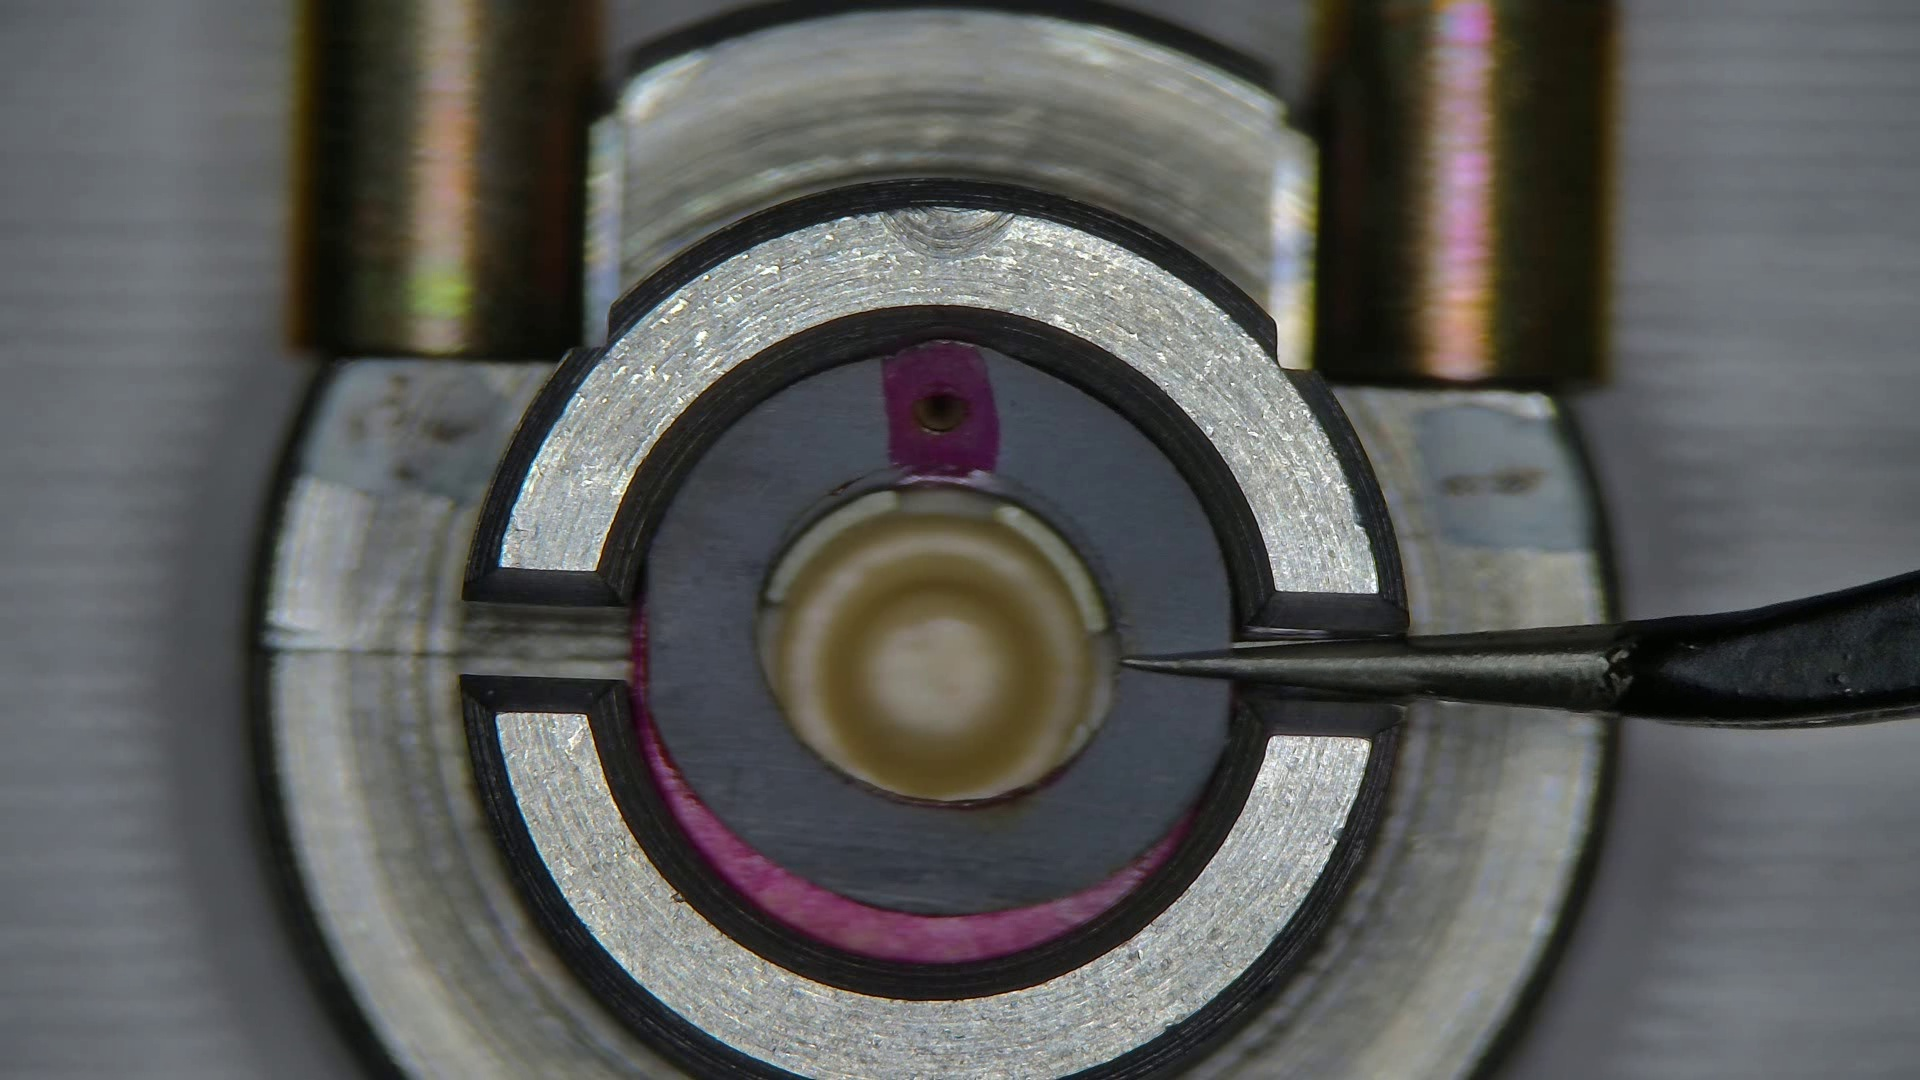GreyOring: (647, 754, 1149, 963)
YellowOring: (645, 345, 1230, 913)
